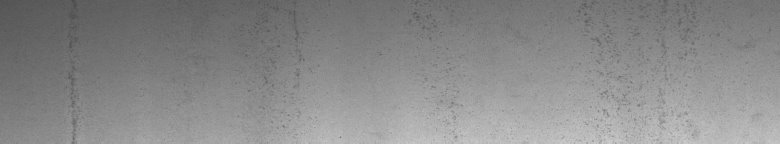ib: (580, 4, 692, 124)
